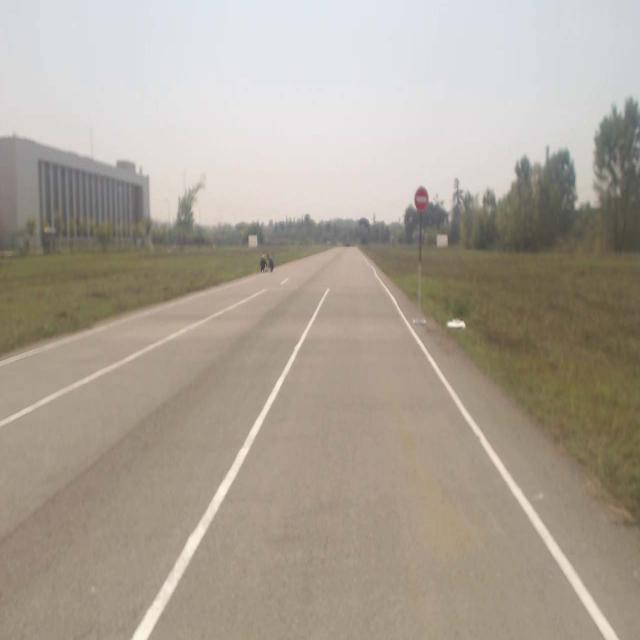girisyok: (413, 188, 429, 211)
